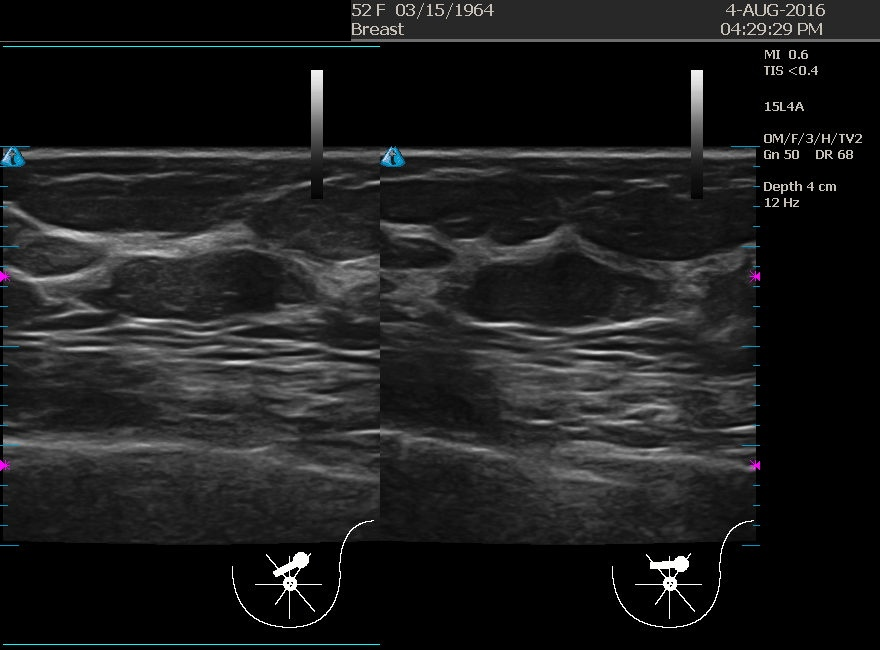BIRADS_3: (77, 193, 277, 393), (437, 153, 637, 353)
